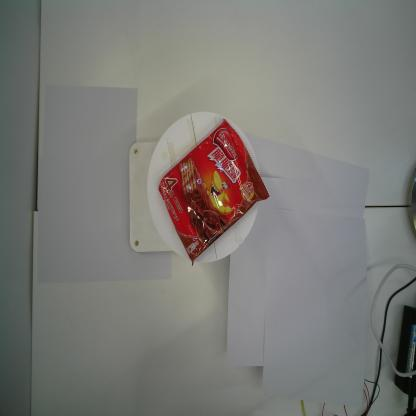Dessert: (157, 118, 270, 267)
